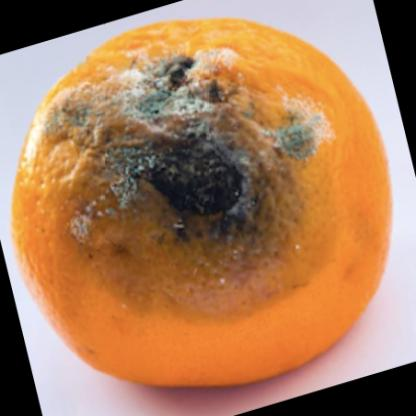rotten: (12, 22, 393, 390)
